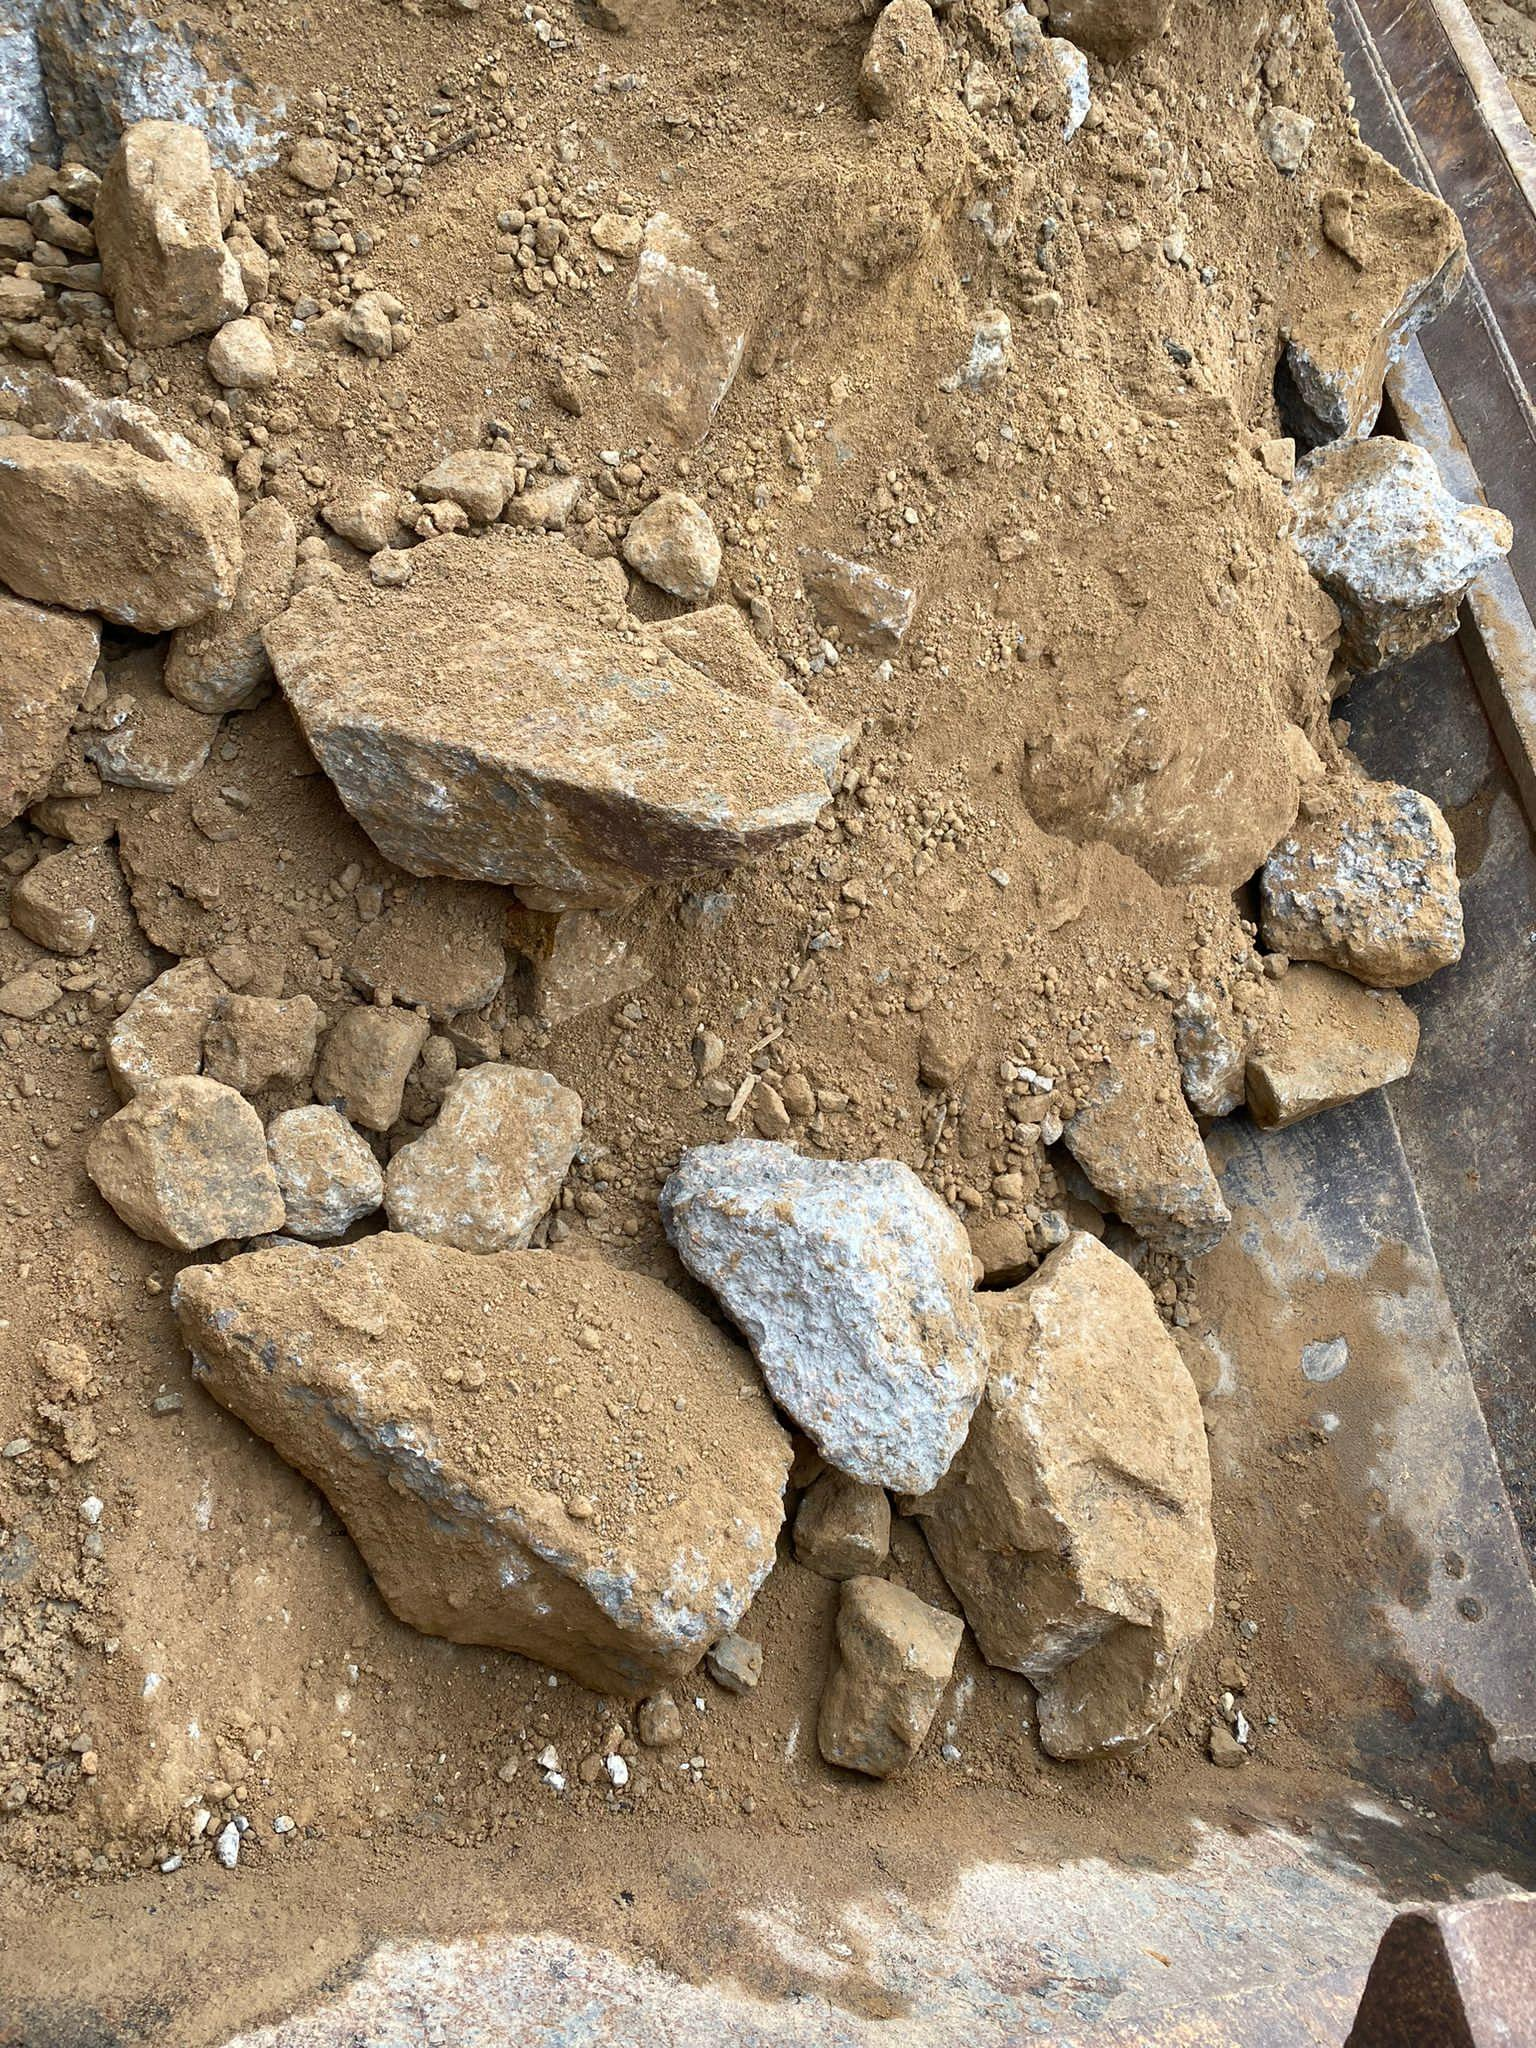dirt: (2, 2, 1531, 2042)
stone: (169, 1227, 797, 1700), (258, 526, 845, 913), (892, 1227, 1218, 1763), (657, 1134, 987, 1496), (1283, 431, 1513, 672), (0, 431, 245, 634), (1255, 771, 1467, 989), (381, 1059, 584, 1253), (82, 1071, 286, 1251), (90, 118, 248, 348), (1238, 956, 1420, 1130), (815, 1572, 965, 1779), (265, 1100, 384, 1238), (620, 489, 721, 601)
